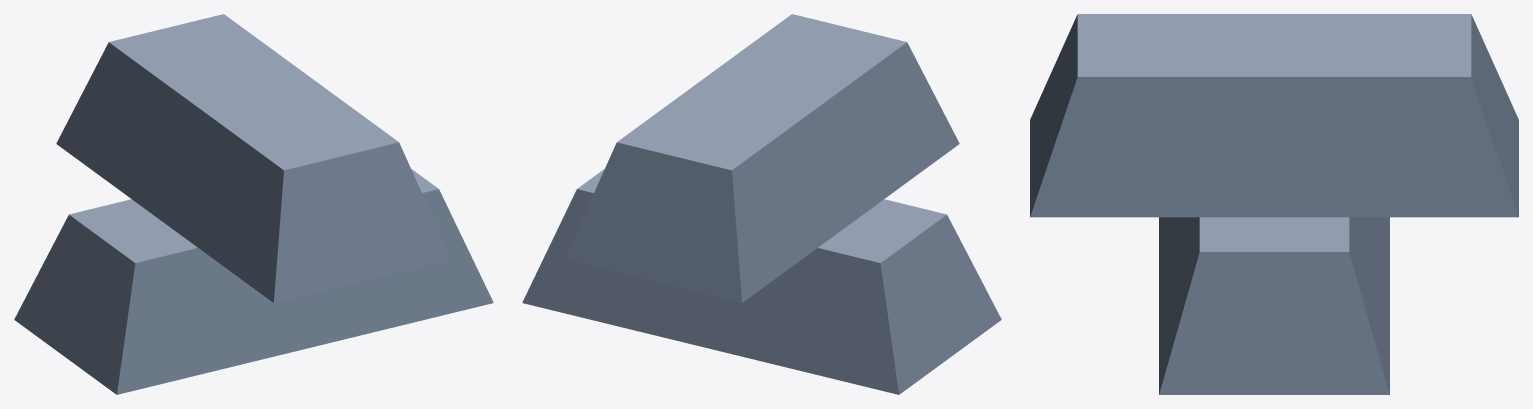
File: steel.glb
3 renders of one model, left to right at view 1: azimuth 30°, elevation 25°; view 2: azimuth 150°, elevation 25°; view 3: azimuth 270°, elevation 25°, orthographic. The views are drawn at different scales.
Visible parts, largest first — view 1: steel; view 2: steel; view 3: steel.
Boxes of the visible parts, x1,y1,x2,y2 form: steel: (14, 14, 493, 394); steel: (522, 14, 1001, 394); steel: (1030, 14, 1518, 394).
Size of the model in its own units: 0.72 by 0.4 by 0.72.
